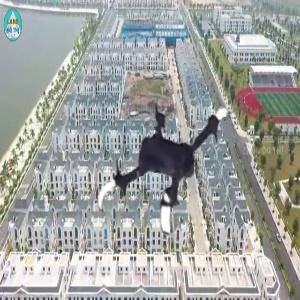drone: (87, 89, 257, 259)
